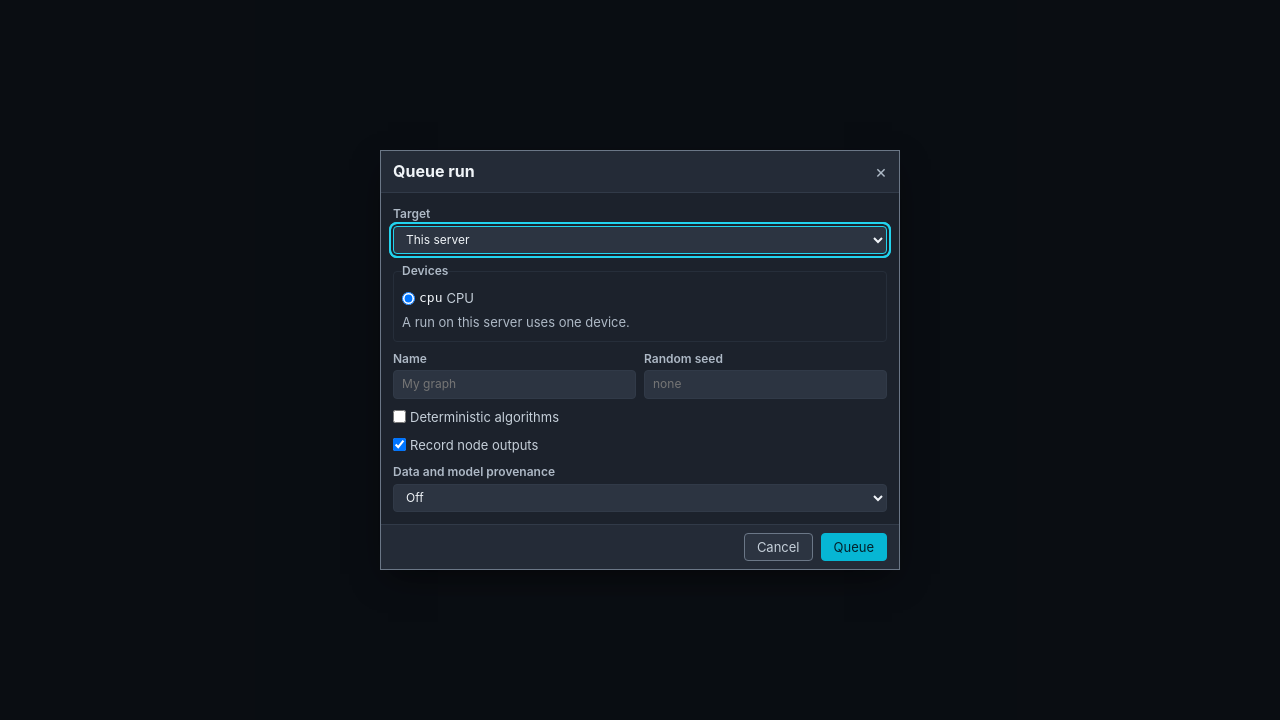
QueueRunDialog: workers › starts a worker on its accelerator when the device only follows Settings (#840)
The image size is (1280, 720).
Expected: the radio button labelled "cpu CPU" is checked, 402,292 -> 415,305
Select "gpu-box (Online): cpu, cuda:0, cuda:1, cuda:2" in the dropdown labelled "Target" at {"x": 640, "y": 240}, box 393,226 -> 887,254
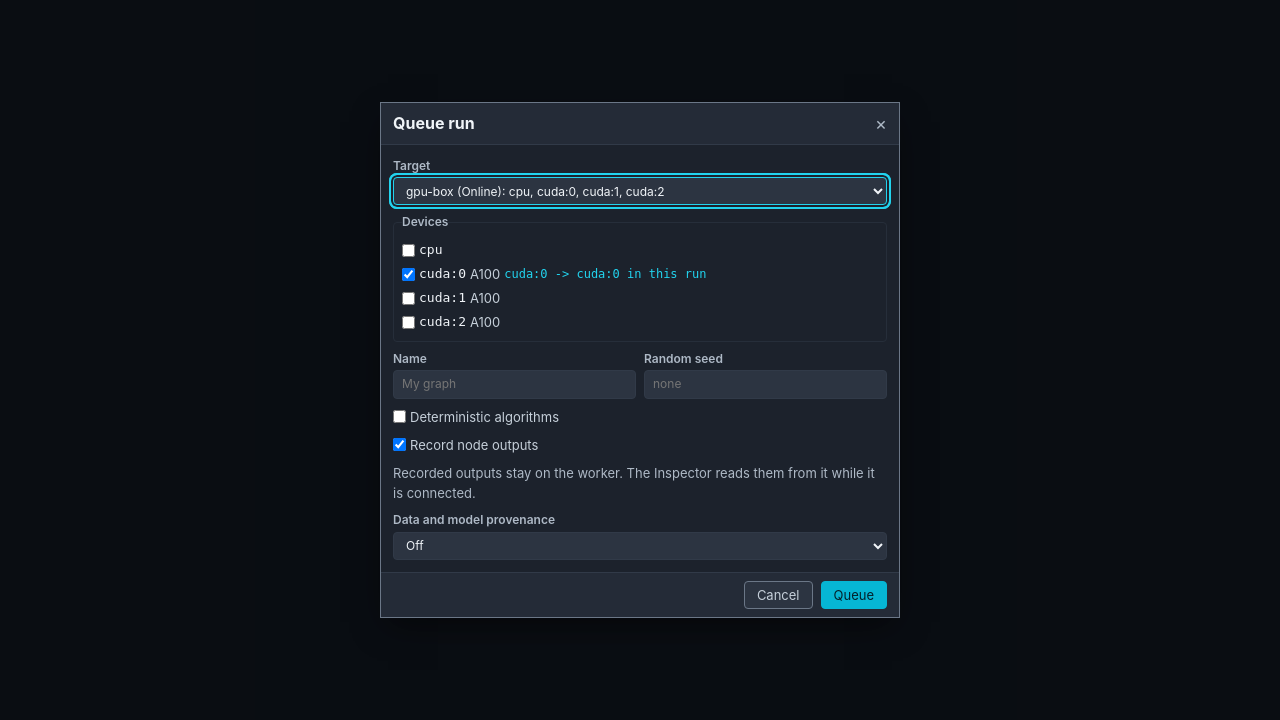
Expected: the checkbox labelled "cuda:0 A100 cuda:0 -> cuda:0 in this run" is checked, 402,268 -> 415,281
Expected: the checkbox labelled "cpu" is not checked, 402,244 -> 415,257
